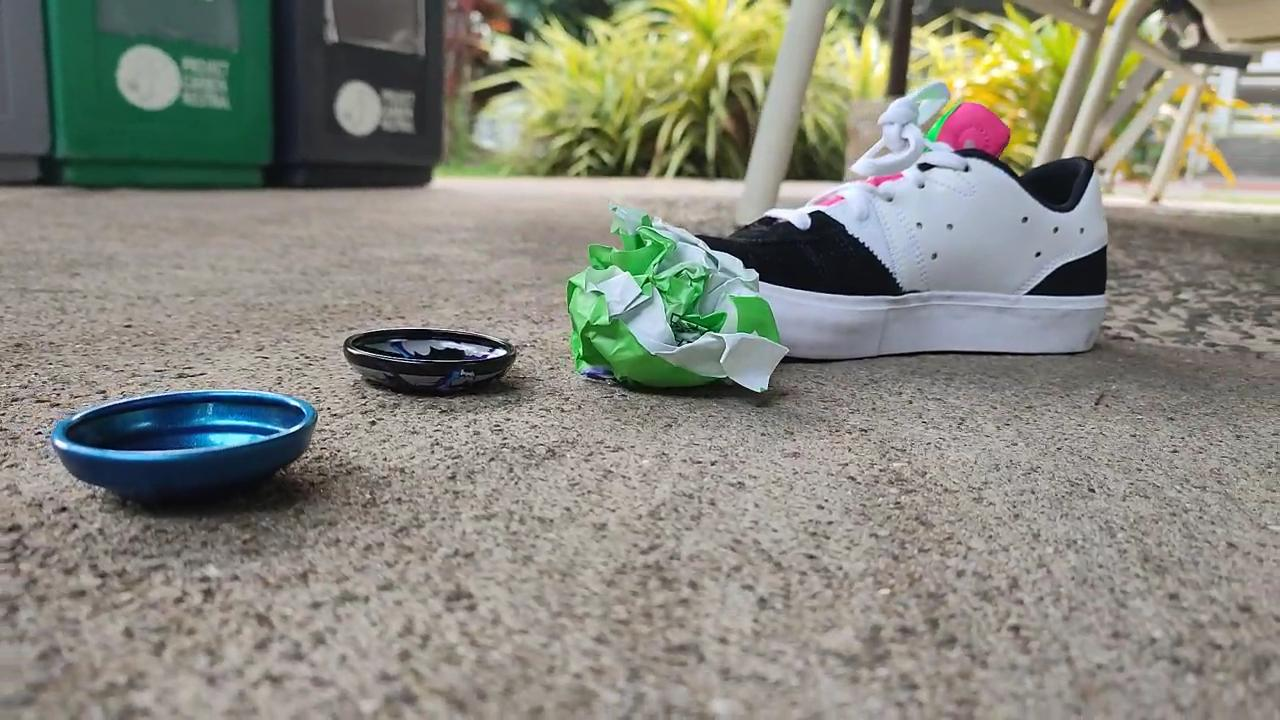Paper: (549, 185, 790, 418)
